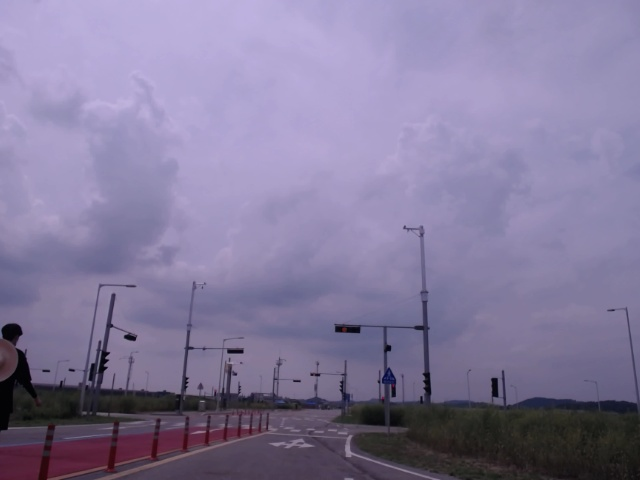orange_4: (333, 325, 363, 334), (309, 372, 323, 378)
